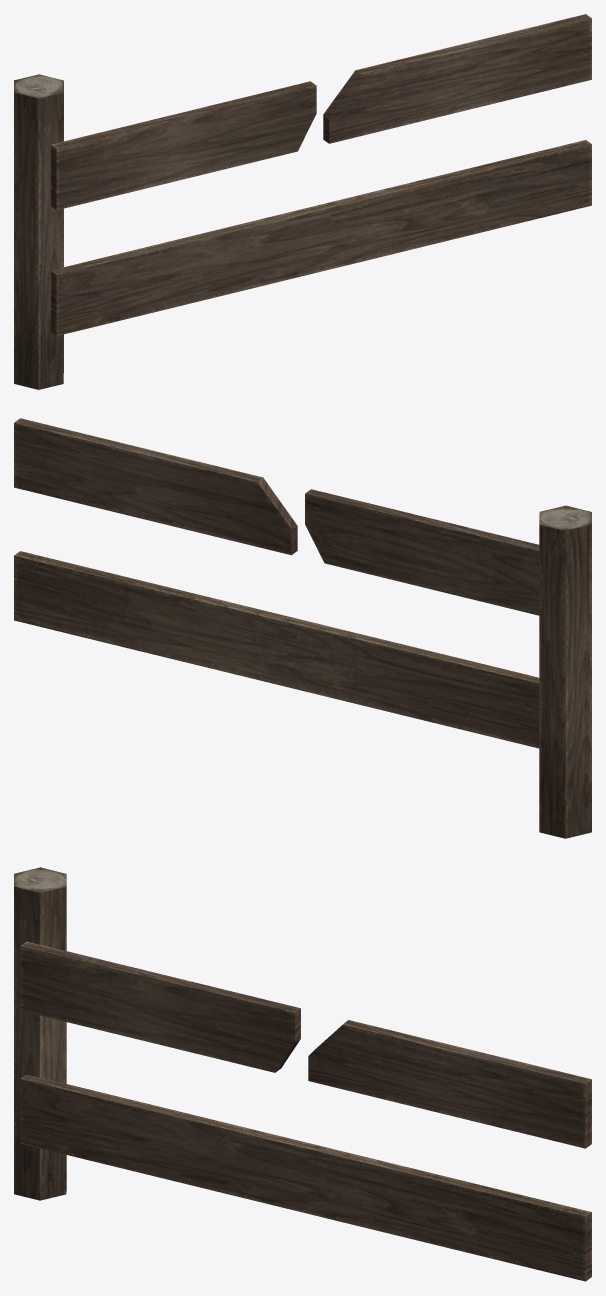
Rendered from Forest.Fence_4.fbx.
3 renders of one model, top to bottom at view 1: azimuth 30°, elevation 25°; view 2: azimuth 150°, elevation 25°; view 3: azimuth 330°, elevation 25°, orthographic. The views are drawn at different scales.
Parts seen in each view (by area): view 1: Forest.Fence_4; view 2: Forest.Fence_4; view 3: Forest.Fence_4.
Boxes of the visible parts, x1,y1,x2,y2 form: Forest.Fence_4: [14, 14, 591, 389]; Forest.Fence_4: [14, 418, 591, 838]; Forest.Fence_4: [14, 867, 591, 1281].
Size of the model in its own units: 157 by 78.03 by 14.92.
